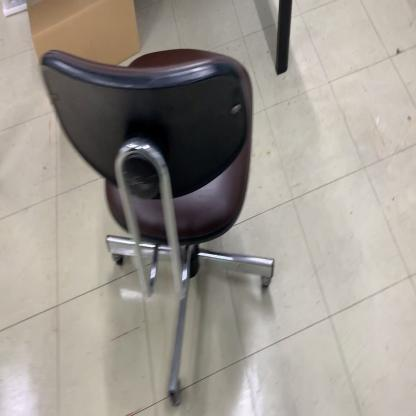chair: (38, 44, 275, 410)
